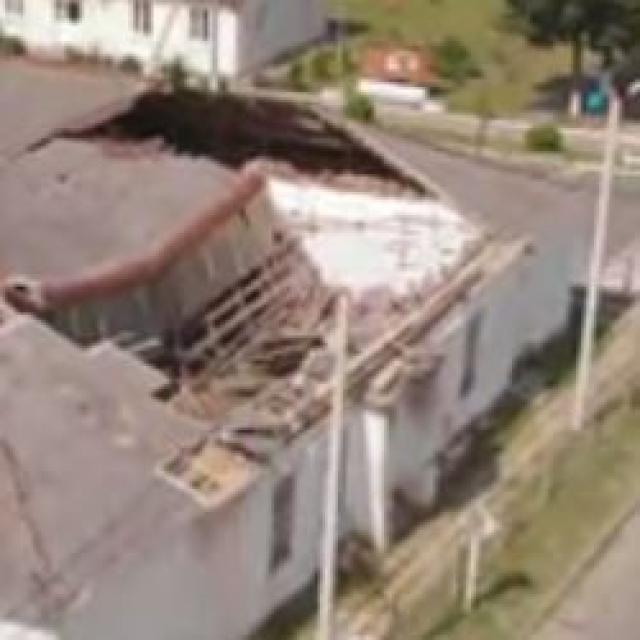collapsed_building: (5, 87, 492, 489)
